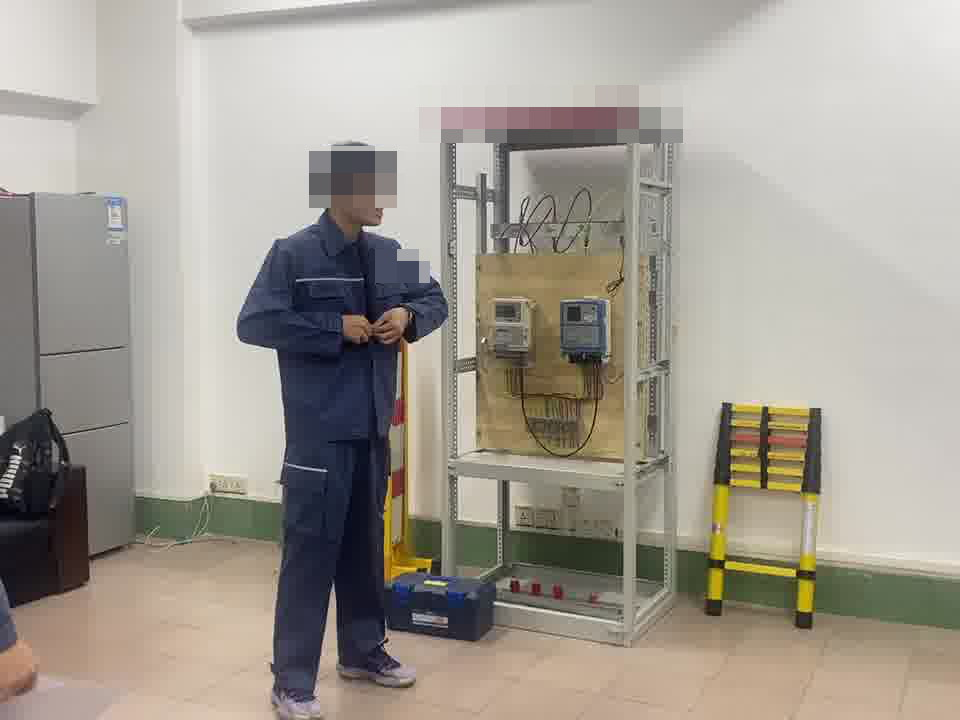downsuit: (267, 451, 398, 694)
hand: (370, 304, 410, 350), (341, 312, 372, 340)
noear: (327, 176, 362, 223)
person: (234, 141, 450, 713)
unhalt: (312, 142, 398, 236)
upsuit: (234, 218, 446, 440)
